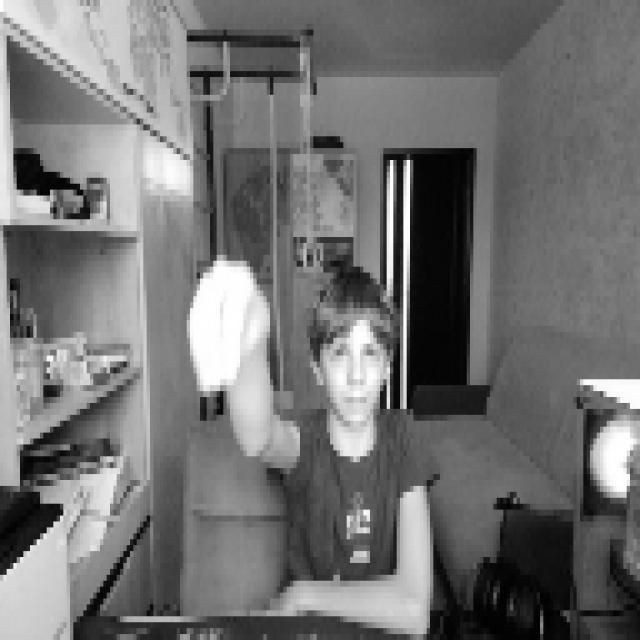left_click: (180, 249, 267, 385)
